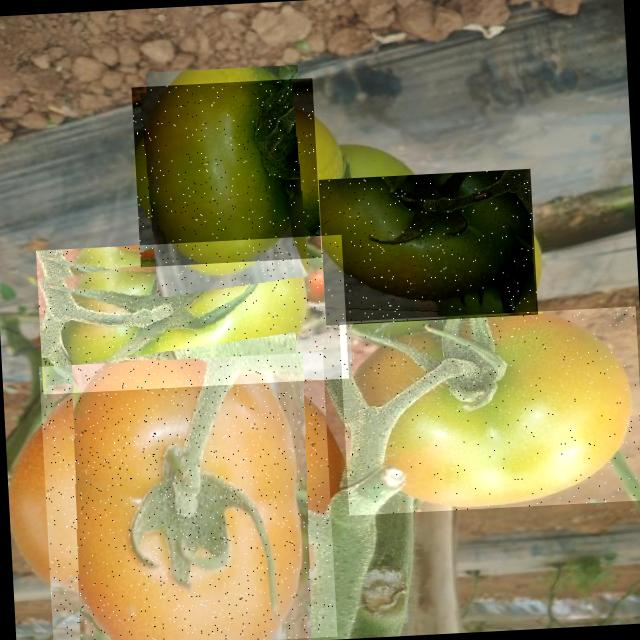Ripe Tomato: (39, 352, 338, 640)
Unripe Tomato: (339, 306, 640, 515), (36, 234, 349, 394), (132, 78, 322, 267), (319, 168, 538, 326)
